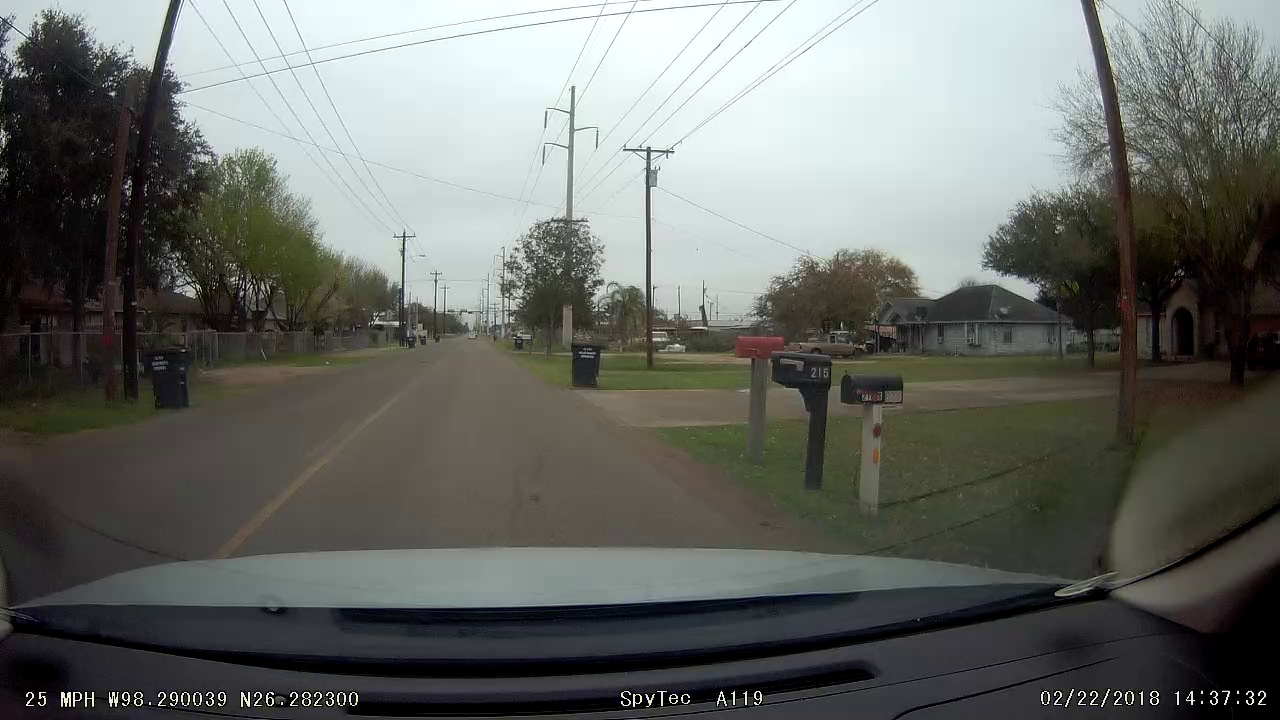blurredLine: (303, 416, 368, 481)
